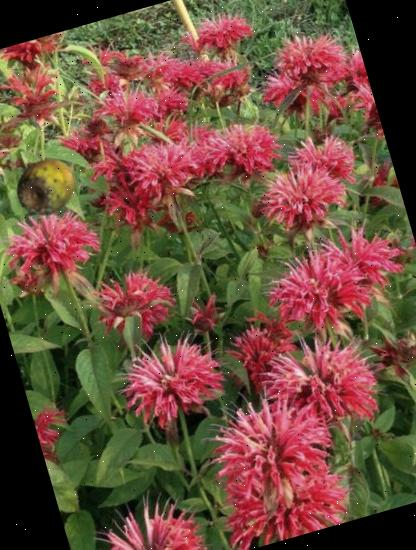Cactus: (5, 142, 89, 226)
